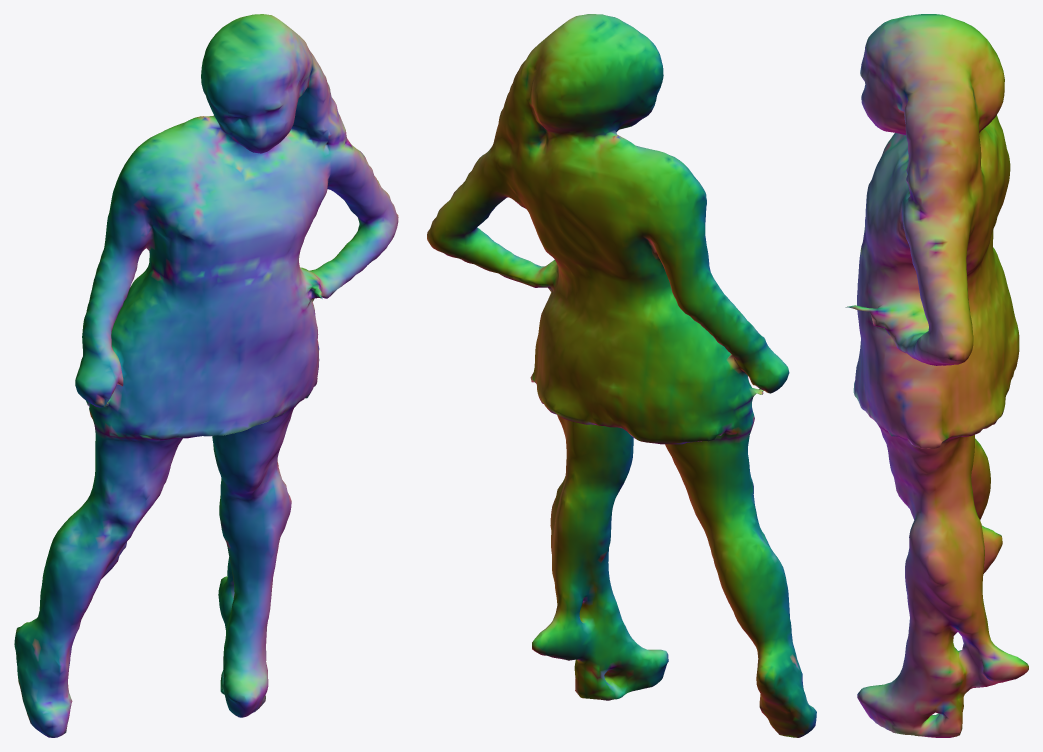
Rendered from pifuhd-ariana-128-clean.glb.
3 renders of one model, left to right at view 1: azimuth 30°, elevation 25°; view 2: azimuth 150°, elevation 25°; view 3: azimuth 270°, elevation 25°, orthographic. The views are drawn at different scales.
Parts seen in each view (by area): view 1: avatar_merged; view 2: avatar_merged; view 3: avatar_merged.
Part boxes in pixels (x1,y1,x2,y2): avatar_merged: (14,14,398,737); avatar_merged: (427,14,816,737); avatar_merged: (845,14,1028,737).
Size of the model in its own units: 1.06 by 1.8 by 0.4145.
